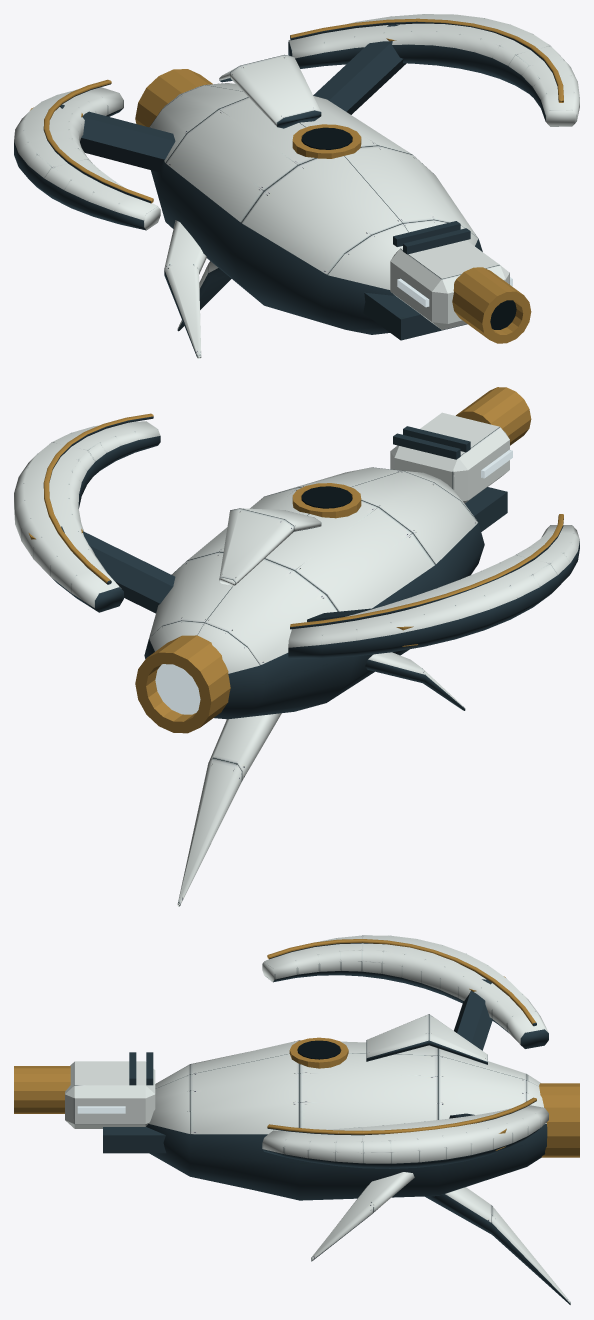
Rendered from pioneer-europa-l05-laser.glb.
3 renders of one model, top to bottom at view 1: azimuth 30°, elevation 25°; view 2: azimuth 150°, elevation 25°; view 3: azimuth 270°, elevation 25°, orthographic. The views are drawn at different scales.
Parts seen in each view (by area): view 1: Drone; view 2: Drone; view 3: Drone.
Boxes of the visible parts, x1=… form: Drone: x1=14, y1=14, x2=579, y2=358; Drone: x1=14, y1=387, x2=579, y2=906; Drone: x1=14, y1=935, x2=579, y2=1304.
Size of the model in its own units: 1.28 by 0.791 by 1.44.
3 materials, 3 textured.
